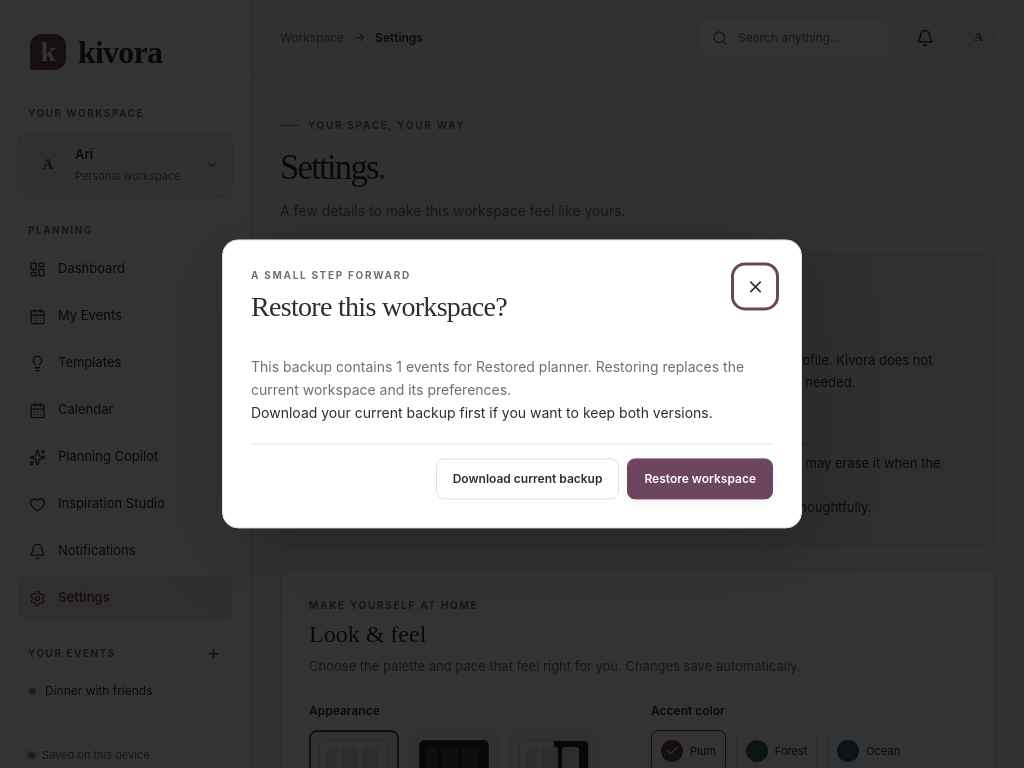
Test: Backup recovery › validates and confirms a backup before replacing the workspace
The width and height of the screenshot is (1024, 768).
Earlier steps of the test are not shown.
Expected: the dialog "Restore this workspace?" is shown, x1=222 y1=239 x2=802 y2=529
Click the button "Restore workspace" at {"x": 700, "y": 479}, box x1=627 y1=459 x2=773 y2=500
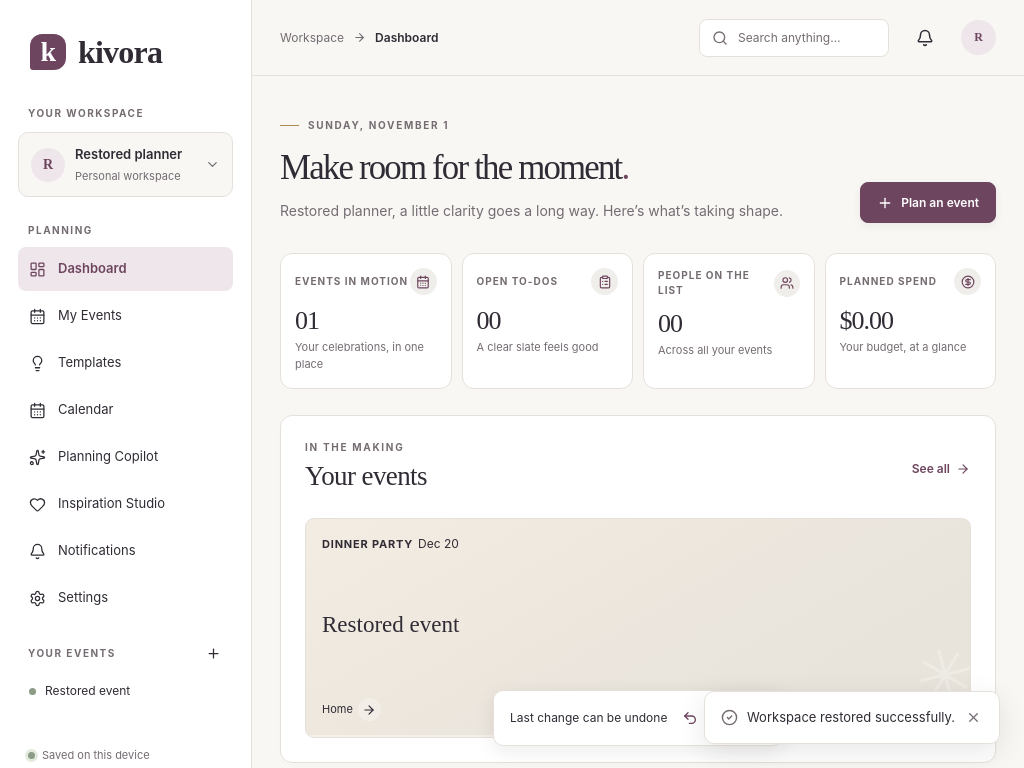
Now the text "Restored planner" is shown, box x1=75 y1=145 x2=195 y2=164
Now the button "Restored event" is shown, box x1=18 y1=672 x2=233 y2=710
